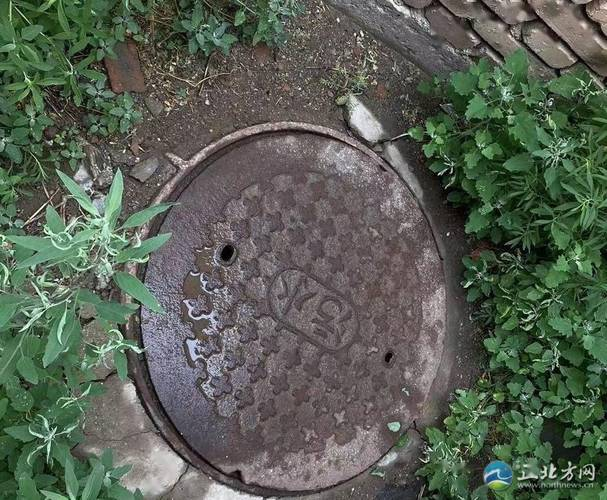good: (116, 115, 467, 496)
